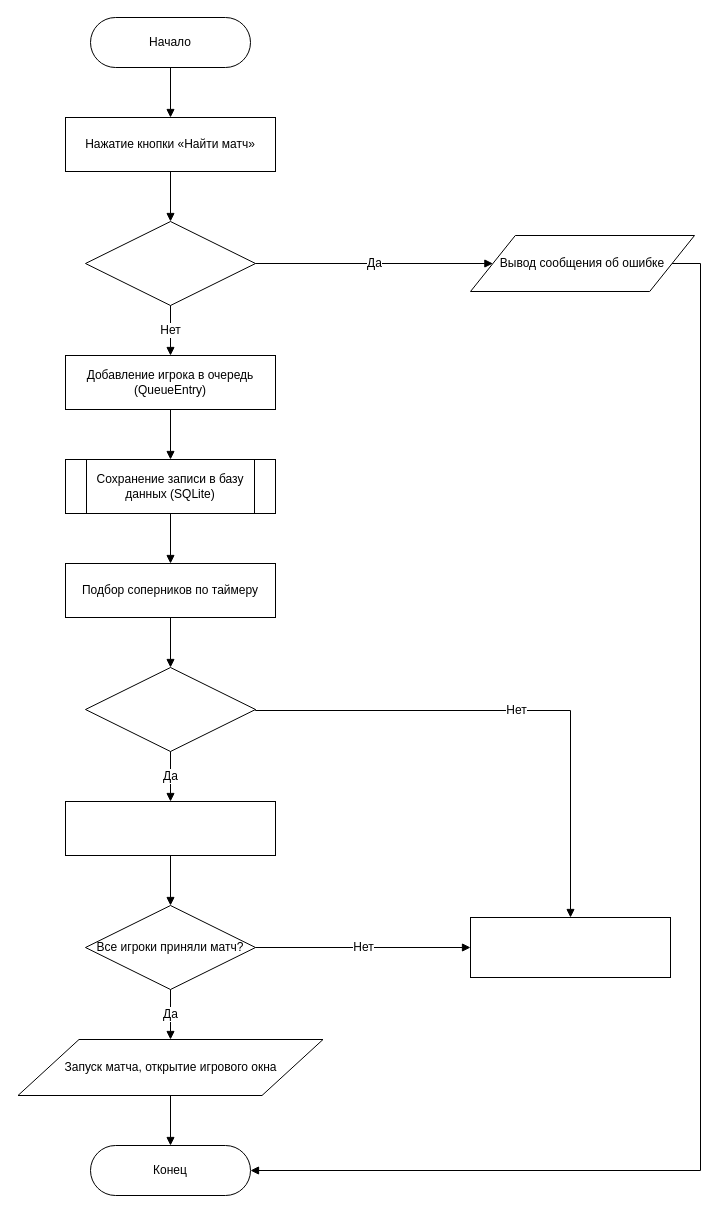
The diagram is 726 pixels wide and 1213 high, and some of its shapes have lost their labels. Each missing label, with the centre of its shape:
"Аккаунт заблокирован?" goes at (x=170, y=263).
"Матч сформирован?" goes at (x=170, y=709).
"Окно подтверждения готовности" goes at (x=170, y=828).
"Отмена матча" goes at (x=570, y=947).
